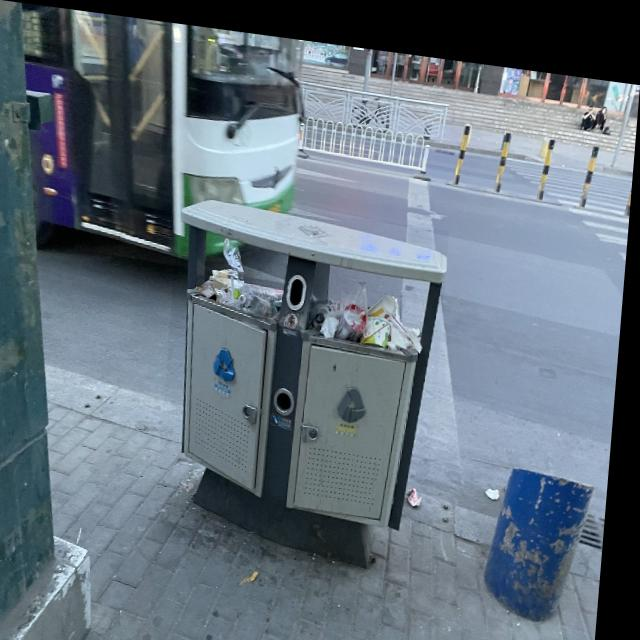overflow: (161, 189, 452, 564)
